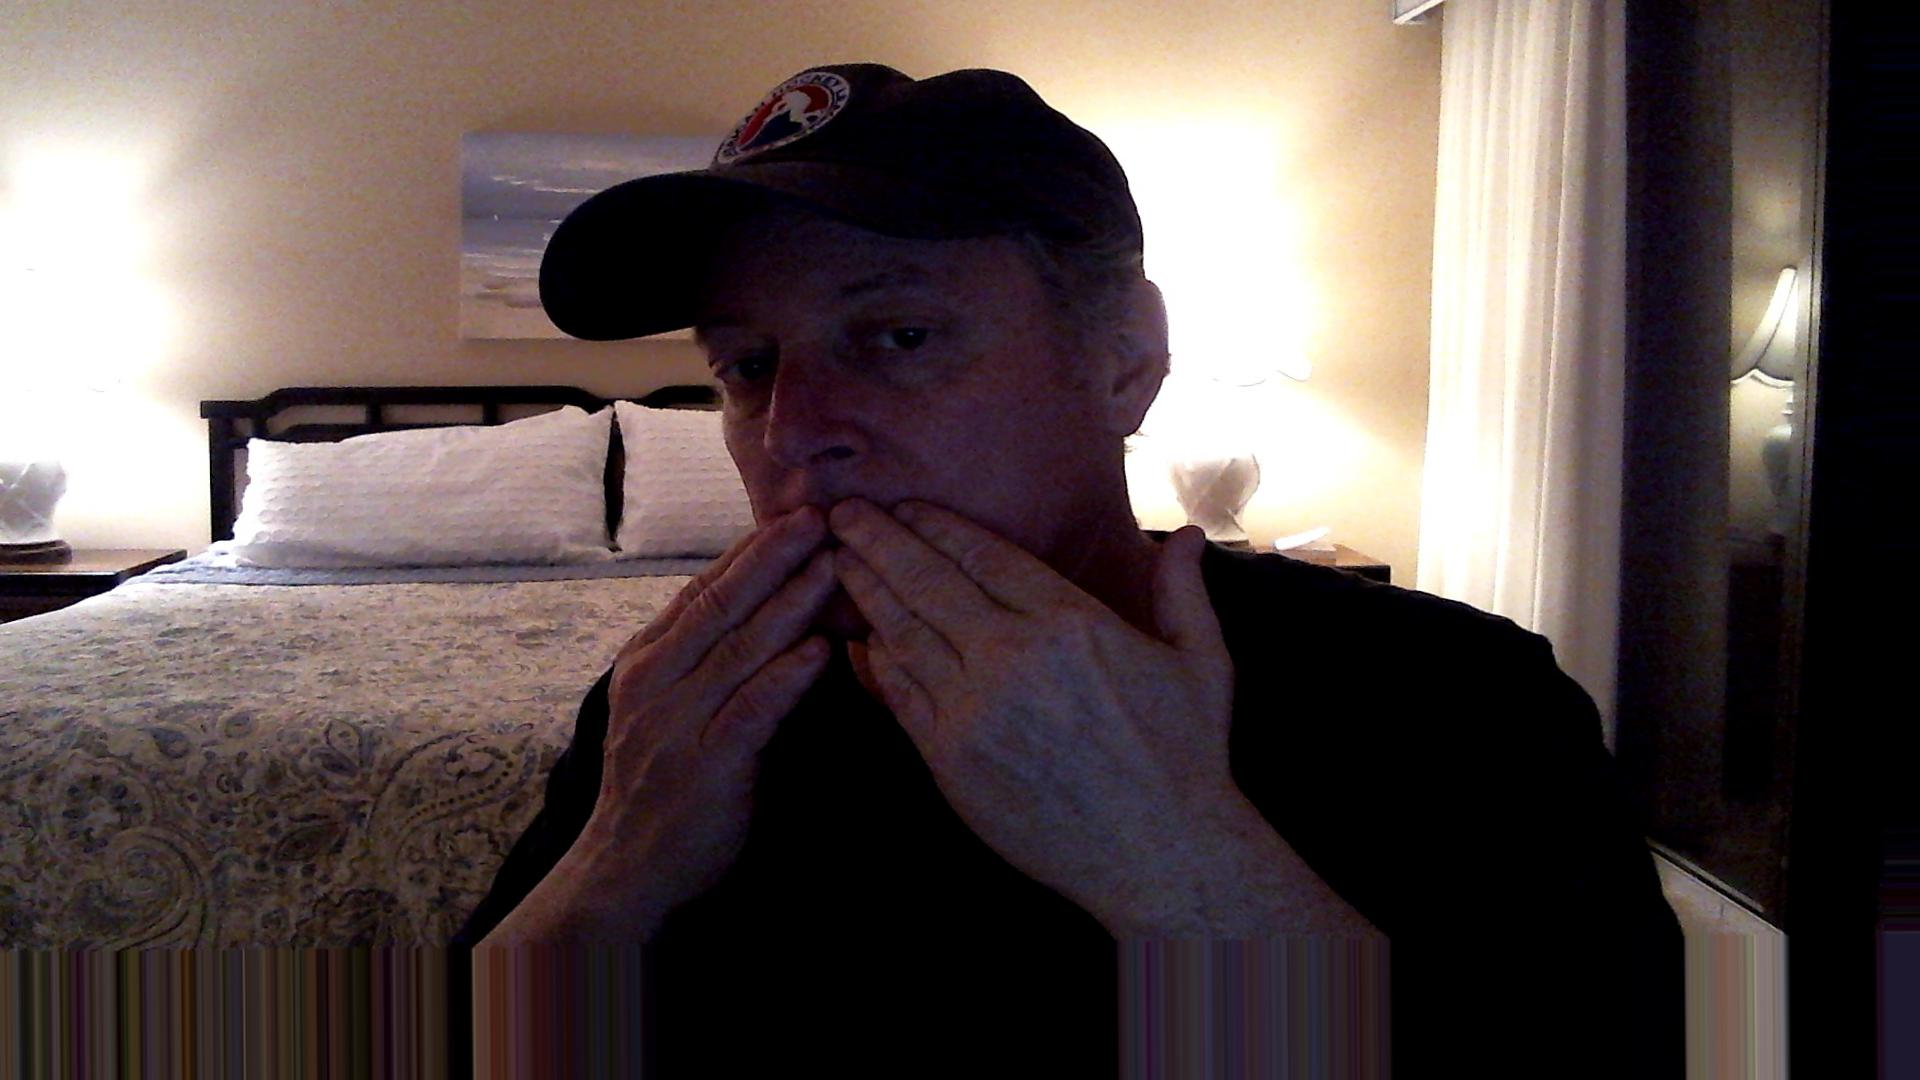Thank You: (537, 488, 1298, 897)
